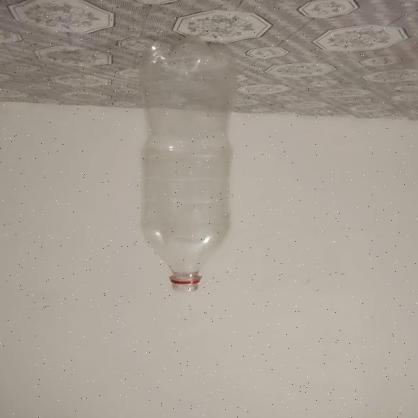bottle: (143, 39, 234, 294)
